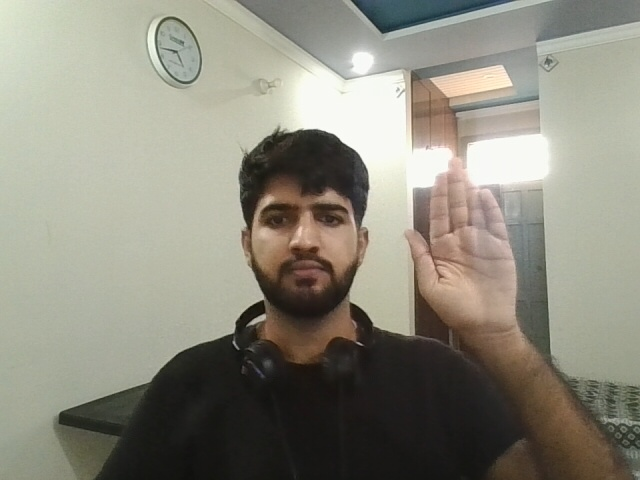Hello: (406, 150, 544, 355)
